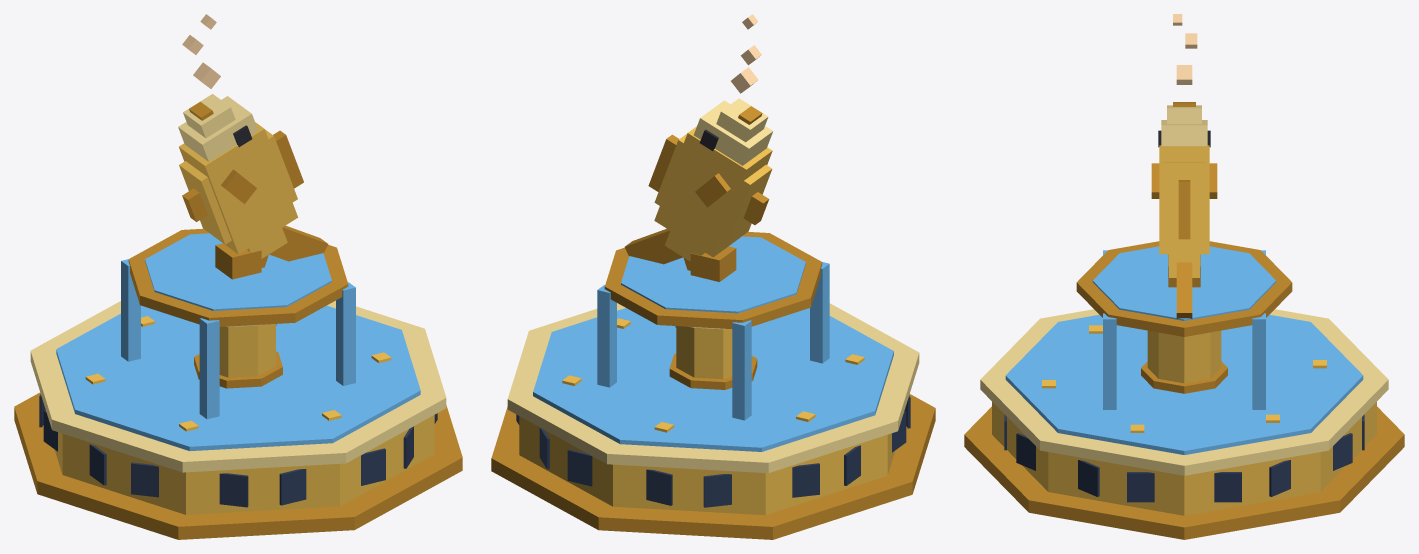
The model's file is CatCafe_Square_FishFountain.glb.
3 renders of one model, left to right at view 1: azimuth 30°, elevation 25°; view 2: azimuth 150°, elevation 25°; view 3: azimuth 270°, elevation 25°, orthographic. The views are drawn at different scales.
Visible parts, largest first — view 1: CatCafe_Square_FishFountain, CatCafe_Square_FishFountain_Water, CatCafe_Square_FishFountain_Glow; view 2: CatCafe_Square_FishFountain, CatCafe_Square_FishFountain_Water, CatCafe_Square_FishFountain_Glow; view 3: CatCafe_Square_FishFountain, CatCafe_Square_FishFountain_Water, CatCafe_Square_FishFountain_Glow.
Boxes of the visible parts, bbox=[...] form: CatCafe_Square_FishFountain: bbox=[14, 94, 462, 539]; CatCafe_Square_FishFountain_Water: bbox=[56, 233, 420, 450]; CatCafe_Square_FishFountain_Glow: bbox=[85, 14, 391, 431]; CatCafe_Square_FishFountain: bbox=[491, 98, 935, 539]; CatCafe_Square_FishFountain_Water: bbox=[533, 236, 893, 451]; CatCafe_Square_FishFountain_Glow: bbox=[562, 14, 864, 432]; CatCafe_Square_FishFountain: bbox=[964, 102, 1404, 539]; CatCafe_Square_FishFountain_Water: bbox=[1005, 246, 1363, 454]; CatCafe_Square_FishFountain_Glow: bbox=[1042, 14, 1326, 432].
Bounding box in the file's own units: 9.6 × 10.04 × 9.6.
Materials: 1 (1 with a texture image).
